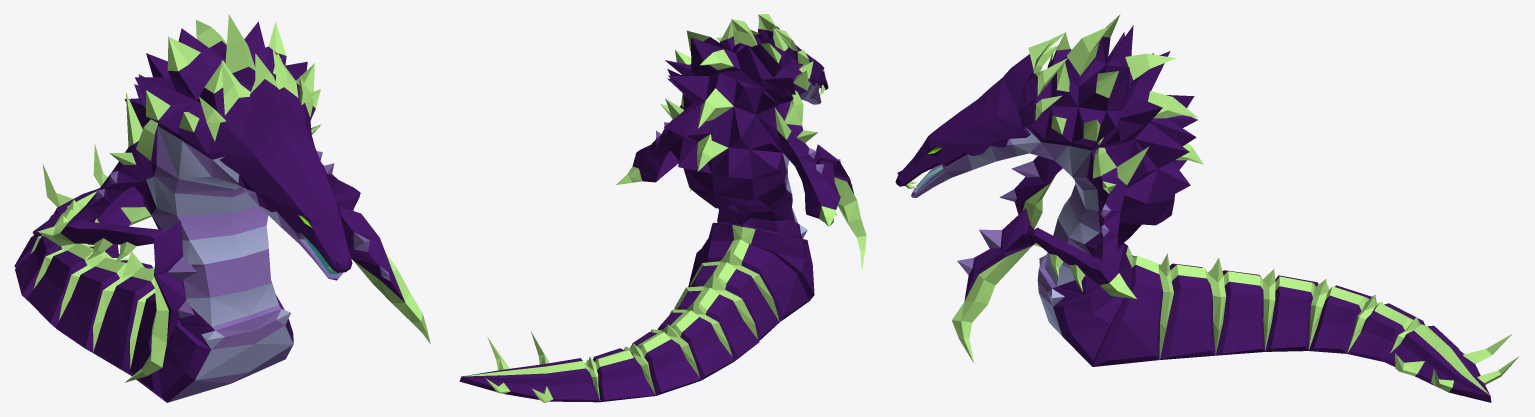
The picture shows the model from 3 angles, left to right: view 1: azimuth 30°, elevation 25°; view 2: azimuth 150°, elevation 25°; view 3: azimuth 270°, elevation 25°; orthographic projection. The views are drawn at different scales.
Visible parts, largest first — view 1: Alien_Serpent; view 2: Alien_Serpent; view 3: Alien_Serpent.
Boxes of the visible parts, x1,y1,x2,y2 form: Alien_Serpent: [14, 14, 430, 402]; Alien_Serpent: [459, 14, 866, 402]; Alien_Serpent: [895, 14, 1519, 402].
Bounding box in the file's own units: 190 × 218 × 378.
1 material, 1 textured.
